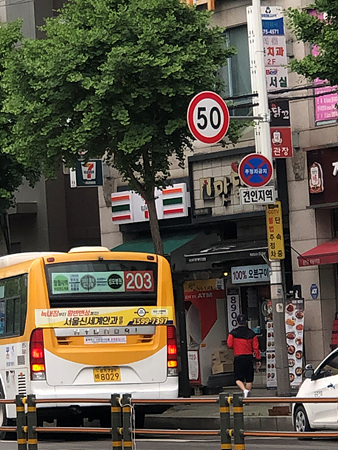bnum: (125, 271, 152, 290)
